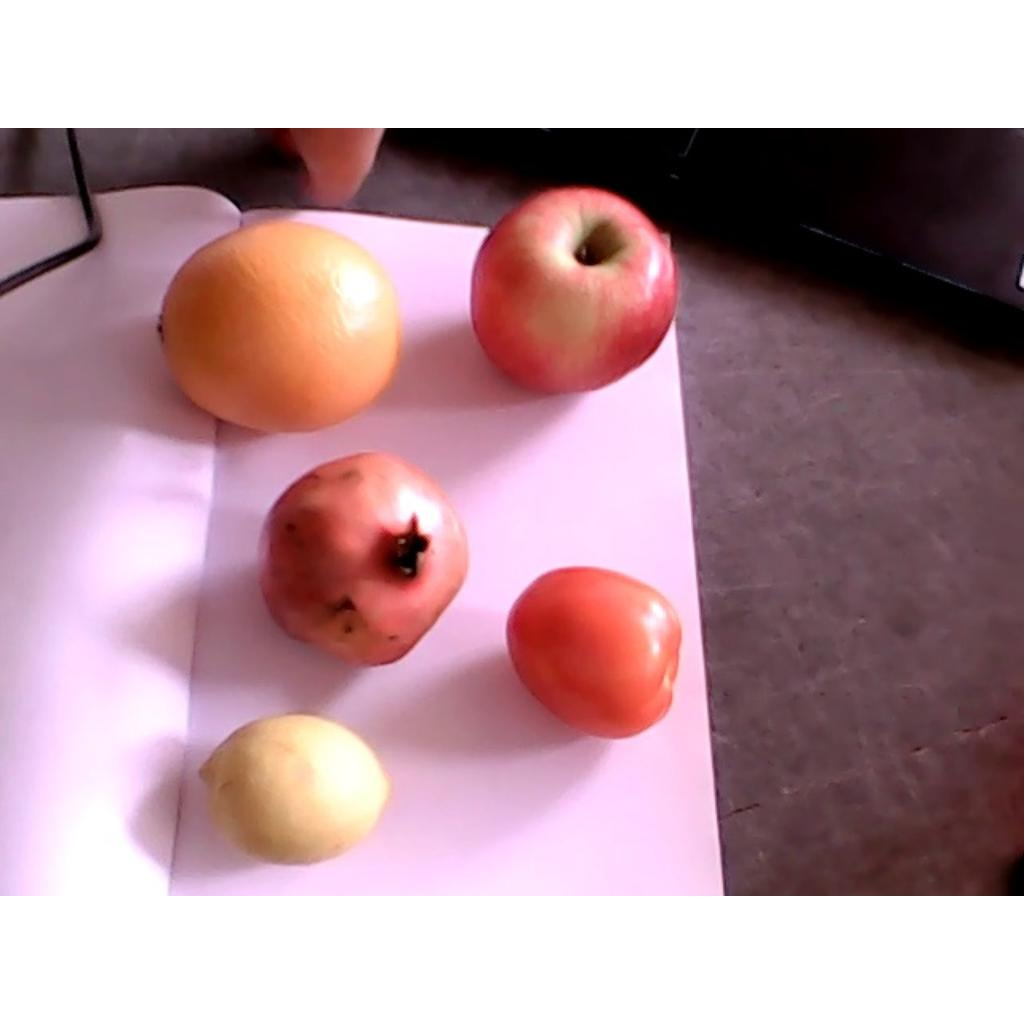apple: (471, 187, 676, 395)
lemon: (197, 711, 390, 865)
orange: (159, 220, 400, 433)
pomegranate: (257, 455, 472, 670)
tomato: (507, 566, 682, 739)
